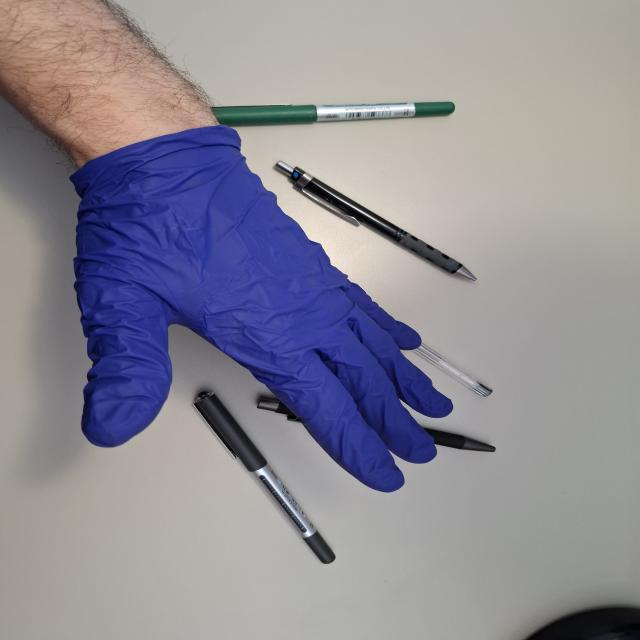glove_on: (65, 122, 458, 496)
